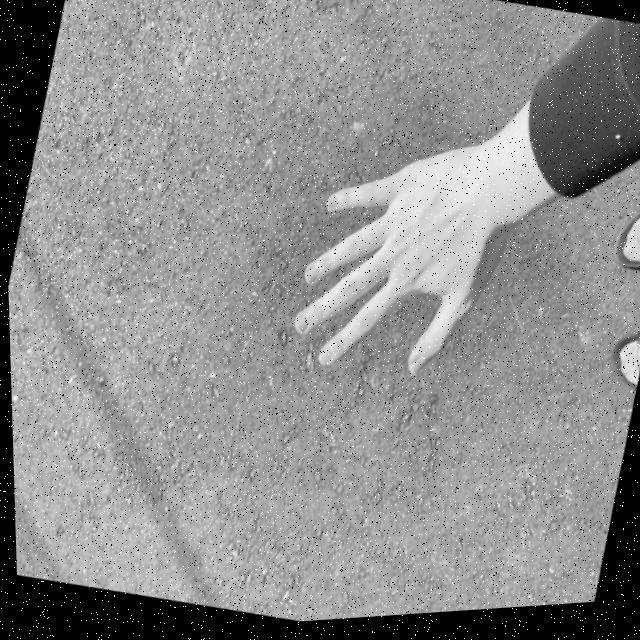no-gloves: (272, 110, 523, 412)
